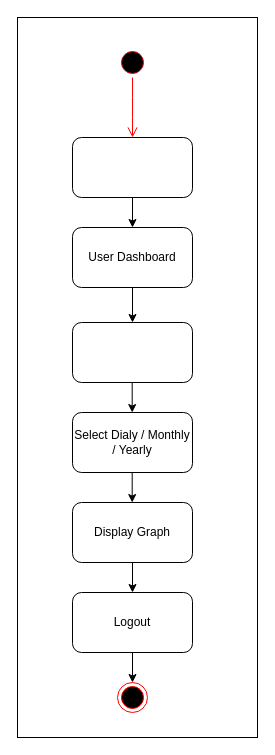
Image size: 275x755. Some labels were removed from this diagram. Each missing label, with the box of its shape:
Select Water Quantity Monitoring: (72, 322, 192, 382)
User Login: (72, 136, 192, 198)
